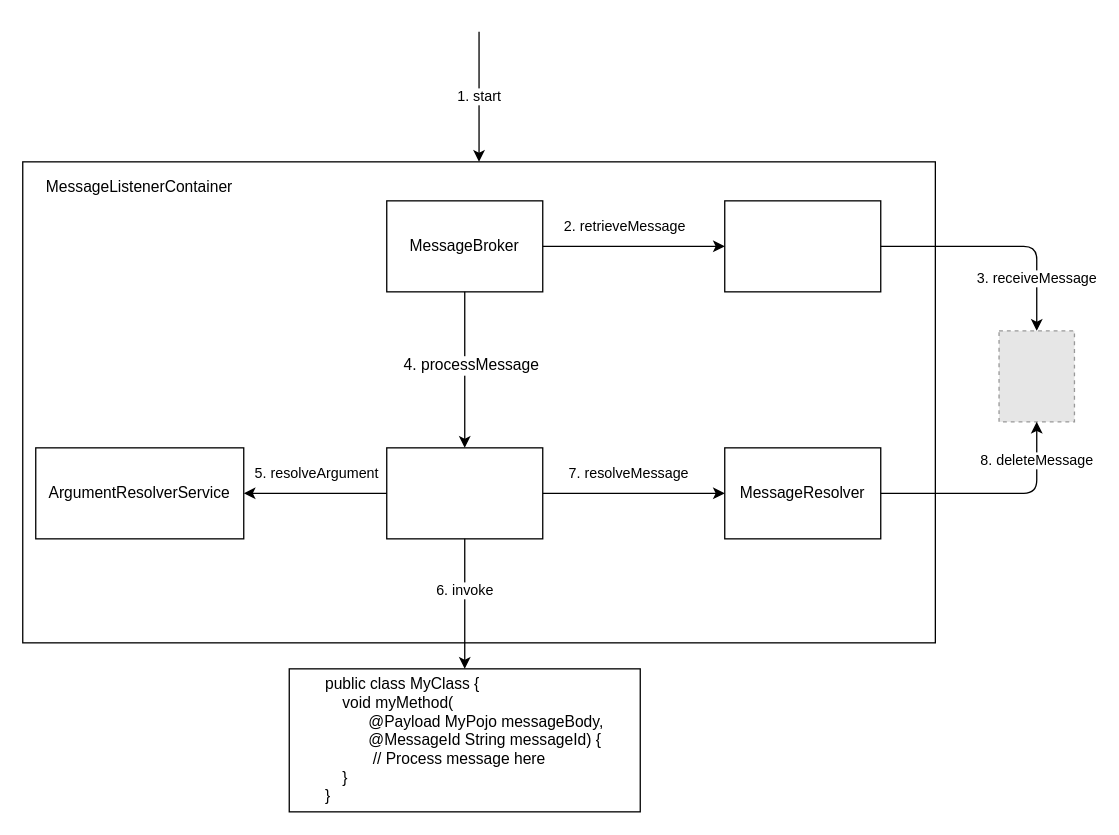
Some shapes in this 1119 by 835 pixel diagram are drawn without their labels. Grey dashed boxes stand in for pictures. Each missing label, with the box of its shape:
MessageProcessor: (385, 447, 543, 539)
MessageRetriever: (723, 200, 881, 292)
